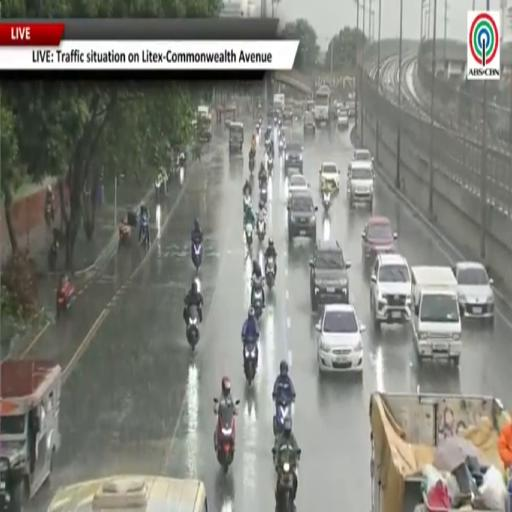bus: (314, 86, 330, 124)
car: (316, 304, 365, 374), (370, 253, 412, 329), (310, 240, 350, 311), (453, 262, 494, 319), (362, 216, 397, 268), (287, 190, 317, 241), (347, 163, 374, 210), (285, 141, 303, 172), (349, 149, 374, 170), (319, 163, 339, 189), (288, 173, 309, 195), (303, 110, 316, 134), (337, 108, 348, 130), (282, 106, 294, 124), (346, 100, 356, 118)
jeepney: (0, 360, 61, 511), (48, 475, 208, 511), (197, 106, 211, 141), (229, 122, 244, 154), (224, 105, 236, 127)
motorcycle: (214, 398, 236, 473), (276, 446, 300, 511), (273, 398, 291, 436), (56, 280, 74, 317), (186, 307, 199, 350), (244, 342, 257, 385), (252, 281, 263, 319), (265, 256, 275, 289), (48, 240, 58, 271), (119, 223, 131, 247), (192, 243, 202, 271), (140, 218, 149, 248), (45, 201, 54, 227), (257, 217, 266, 243), (155, 176, 164, 202), (245, 222, 253, 249), (322, 192, 331, 213), (243, 195, 251, 215), (260, 183, 267, 204), (267, 156, 273, 175), (267, 142, 274, 158), (249, 154, 255, 172), (279, 138, 284, 154), (265, 137, 270, 151), (256, 122, 261, 135)
truck: (370, 392, 509, 511), (411, 266, 461, 364), (273, 93, 284, 110)
